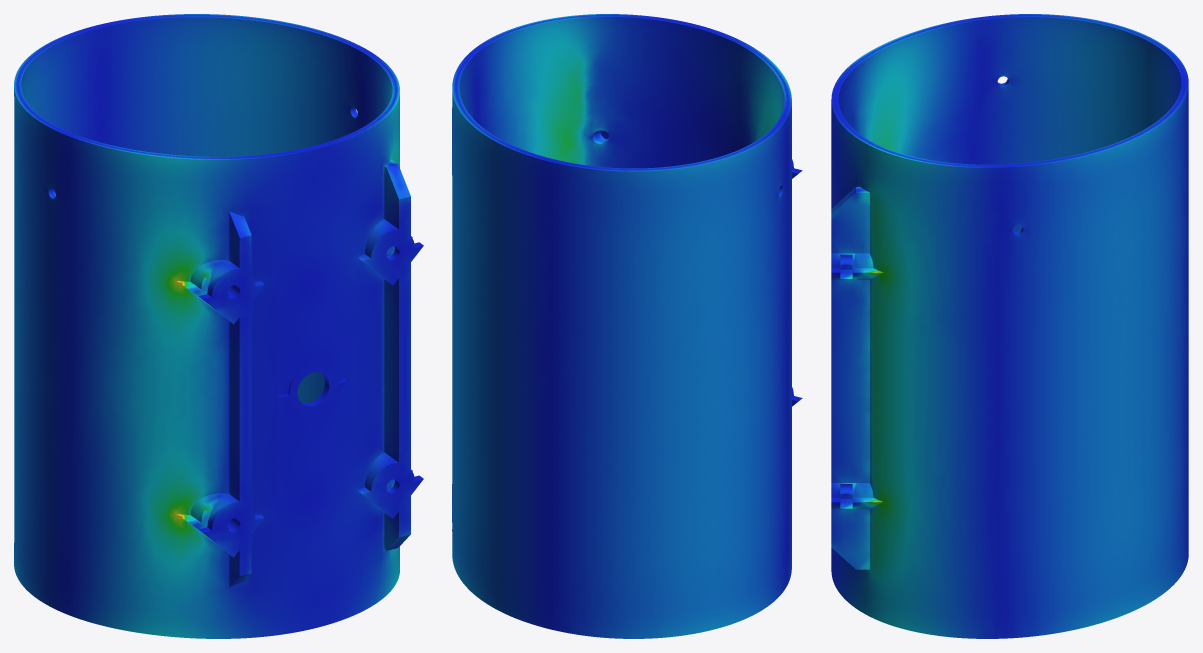
The model's file is result.glb.
3 views of the same model, side by side, from view 1: azimuth 30°, elevation 25°; view 2: azimuth 150°, elevation 25°; view 3: azimuth 270°, elevation 25° (orthographic). The views are drawn at different scales.
Visible parts, largest first — view 1: 75dde284-f6af-5e0f-876b-8676f8f9c983 von Mises; view 2: 75dde284-f6af-5e0f-876b-8676f8f9c983 von Mises; view 3: 75dde284-f6af-5e0f-876b-8676f8f9c983 von Mises.
Part boxes in pixels (left/top/right/bottom): 75dde284-f6af-5e0f-876b-8676f8f9c983 von Mises: left=14, top=14, right=423, bottom=638; 75dde284-f6af-5e0f-876b-8676f8f9c983 von Mises: left=452, top=14, right=802, bottom=638; 75dde284-f6af-5e0f-876b-8676f8f9c983 von Mises: left=831, top=14, right=1188, bottom=638.
Bounding box in the file's own units: 0.0805 × 0.115 × 0.0791.
Materials: 1 (1 with a texture image).
